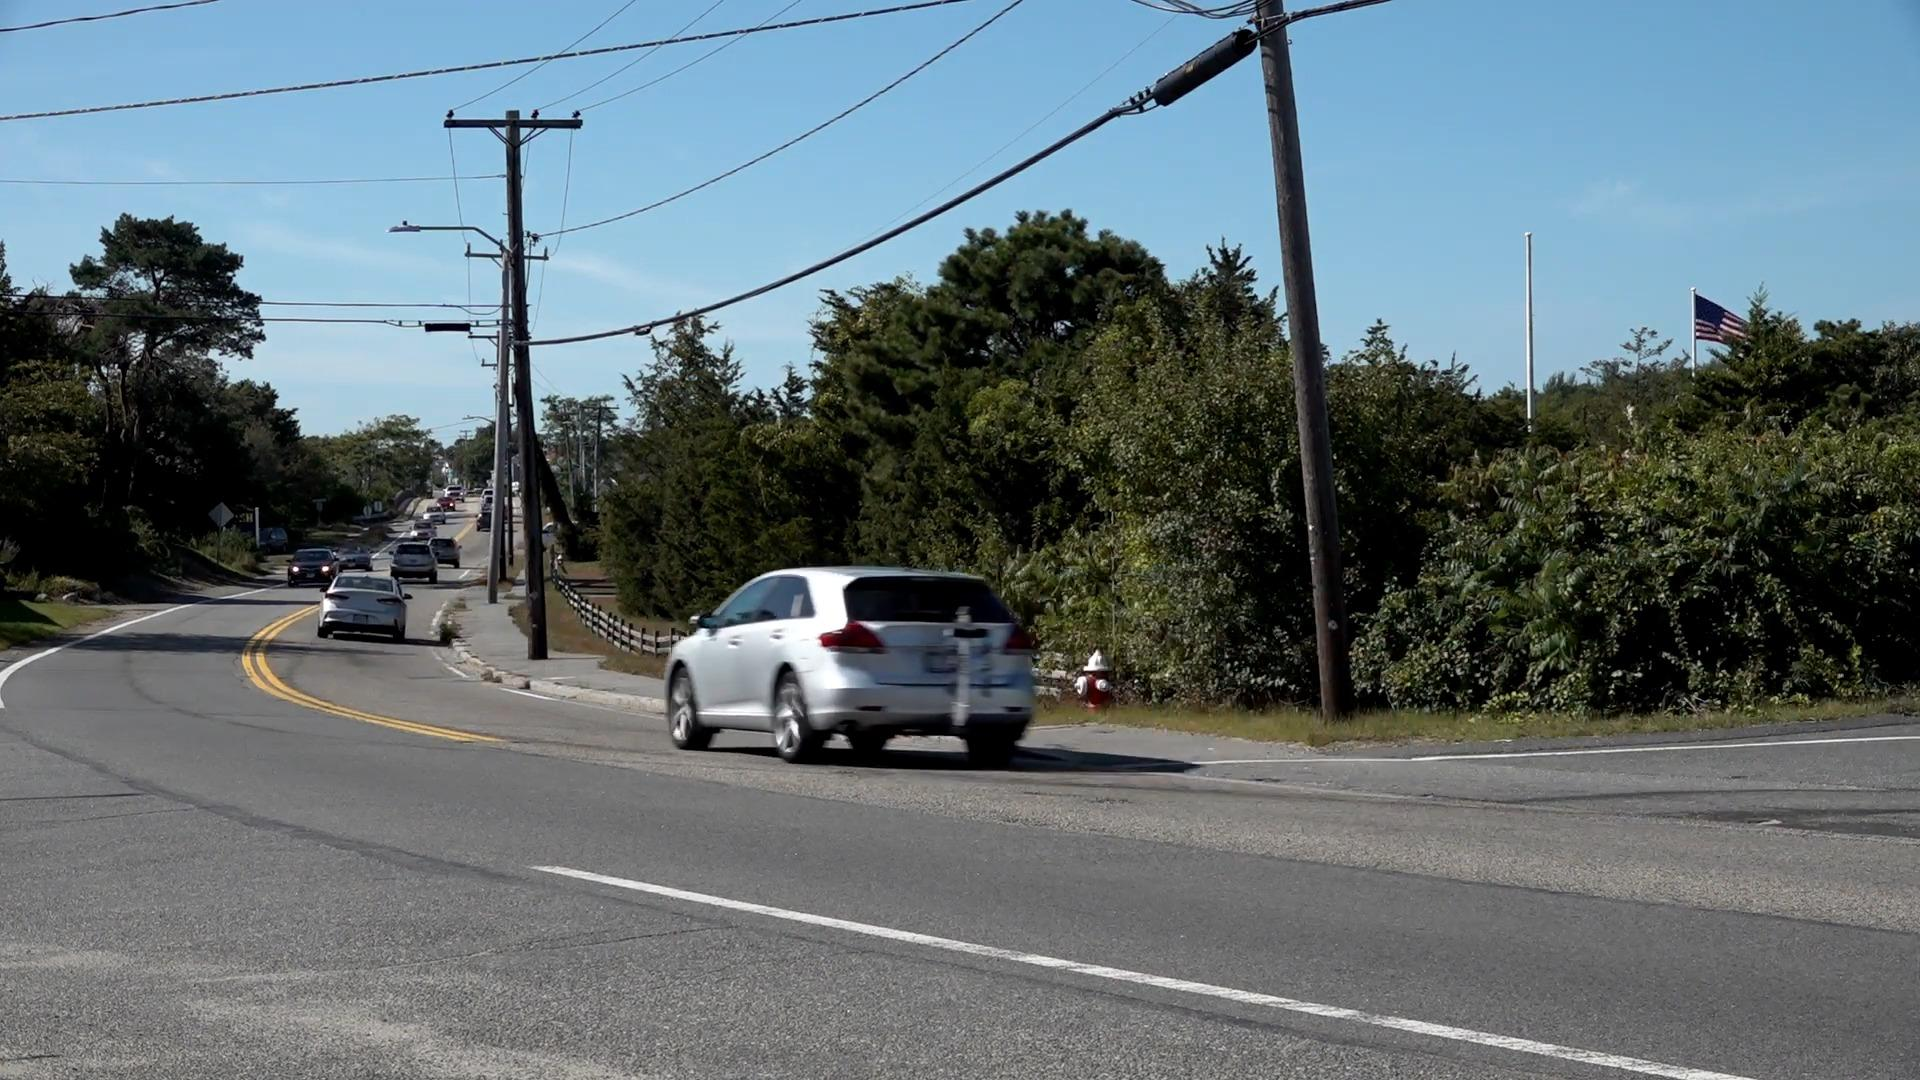sedans: (319, 574, 409, 647)
suv: (661, 570, 1044, 760)
